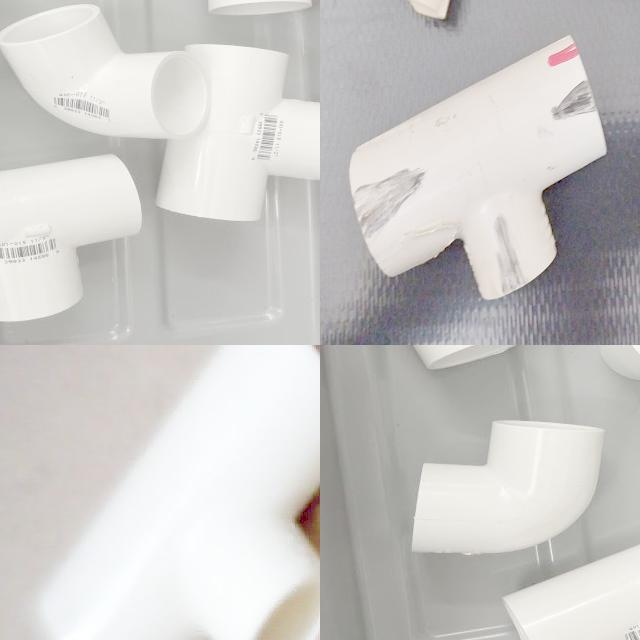Defective: (578, 141, 640, 223), (320, 20, 369, 62), (592, 294, 628, 345), (442, 98, 468, 157), (591, 0, 615, 53), (482, 91, 499, 129)
L Joint: (0, 5, 212, 143), (410, 420, 607, 558), (515, 0, 640, 64)
T Joint: (36, 345, 320, 640), (320, 0, 507, 174), (156, 38, 320, 222), (0, 154, 144, 325), (547, 136, 640, 345), (501, 537, 640, 640)
